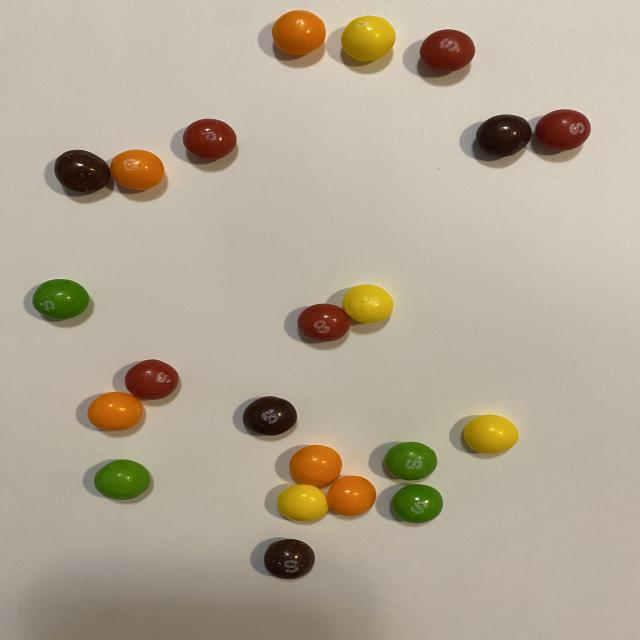smartie: (341, 14, 396, 60), (271, 9, 325, 54), (53, 149, 109, 192), (420, 28, 475, 71), (476, 114, 532, 156), (31, 279, 88, 320), (93, 460, 149, 501), (536, 109, 592, 150), (182, 118, 236, 160), (109, 149, 163, 190), (124, 359, 178, 400), (289, 446, 342, 487), (464, 415, 519, 454), (242, 397, 297, 436), (86, 393, 142, 431), (326, 476, 376, 517), (263, 540, 314, 580), (384, 443, 437, 481), (297, 304, 350, 342), (342, 284, 393, 323), (392, 485, 443, 524), (277, 485, 328, 522)
